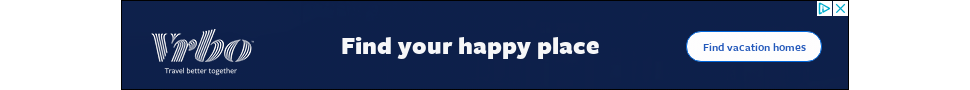fake_button: (683, 24, 823, 75)
